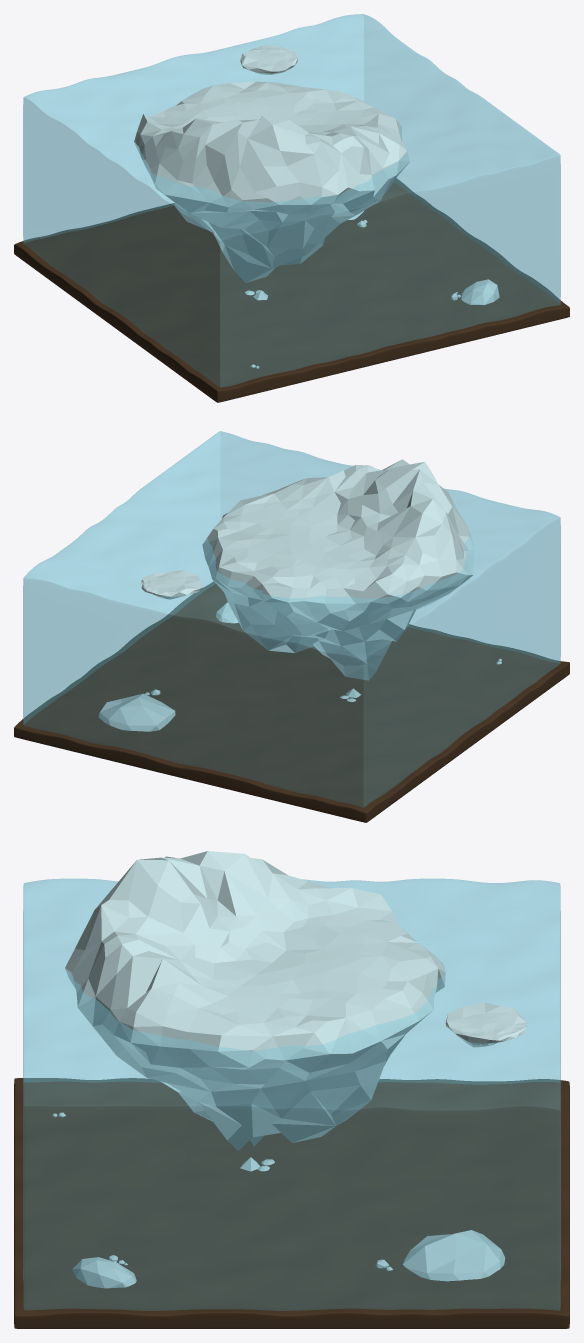
Rendered from low_poly_iceberg_scene.glb.
3 views of the same model, one above another, from view 1: azimuth 30°, elevation 25°; view 2: azimuth 150°, elevation 25°; view 3: azimuth 270°, elevation 25° (orthographic). The views are drawn at different scales.
Parts seen in each view (by area): view 1: Water, Floor, Iceberg, Small Platform, Icosphere.003; view 2: Water, Floor, Iceberg, Icosphere, Small Platform; view 3: Water, Floor, Iceberg, Icosphere, Small Platform, Icosphere.003.
Boxes of the visible parts, x1,y1,x2,y2 form: Water: (23, 14, 560, 387); Floor: (14, 178, 569, 402); Iceberg: (134, 81, 409, 282); Small Platform: (240, 45, 297, 74); Icosphere.003: (461, 279, 499, 305); Water: (23, 431, 560, 807); Floor: (14, 581, 569, 822); Iceberg: (202, 459, 476, 680); Icosphere: (98, 693, 175, 731); Small Platform: (141, 570, 202, 599); Water: (23, 878, 560, 1310); Floor: (14, 1078, 569, 1328); Iceberg: (65, 851, 445, 1150); Icosphere: (403, 1230, 505, 1281); Small Platform: (445, 1002, 526, 1047); Icosphere.003: (72, 1257, 136, 1288).
Bounding box in the file's own units: 12 × 7.84 × 12.
